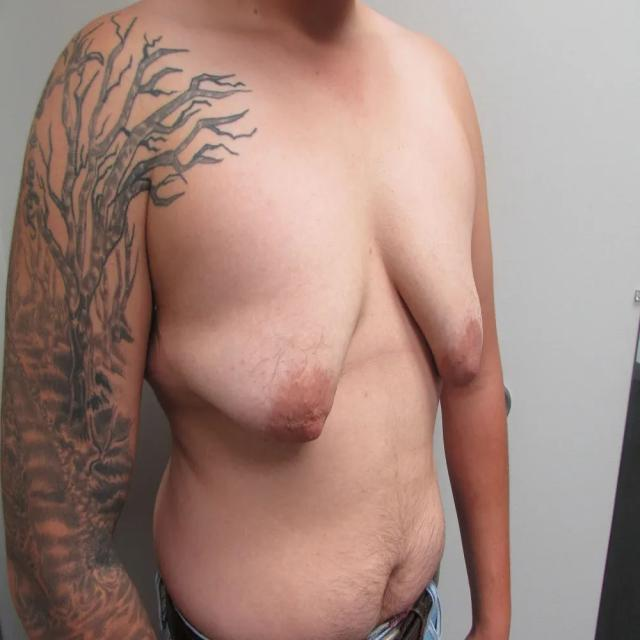Seno ileso: (144, 207, 371, 477), (382, 196, 490, 404)
